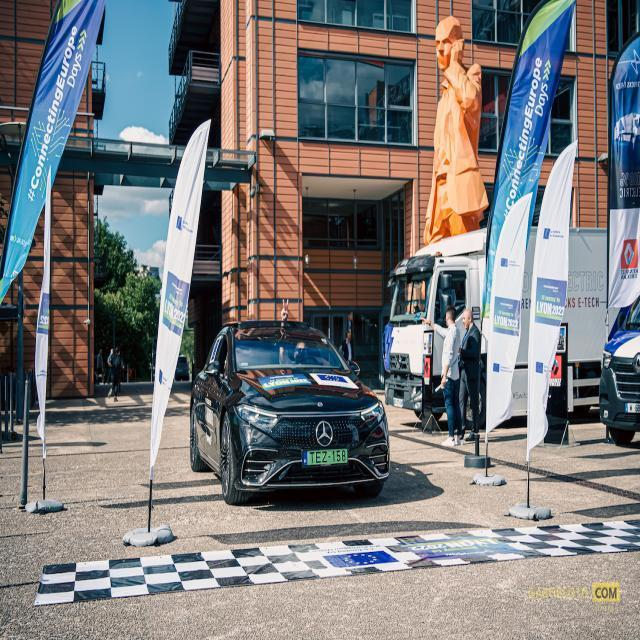licence: (302, 444, 350, 466)
